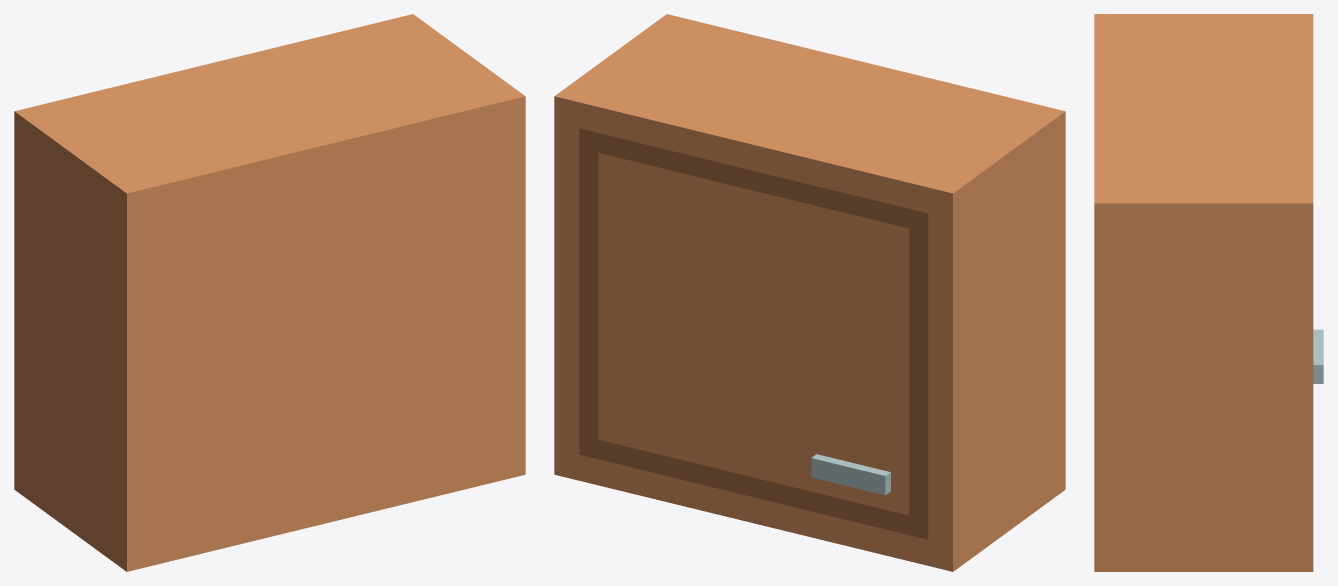
The model's file is Kitchen Cabinet Upper by Kenney - mM40AmuWwT.glb.
3 views of the same model, side by side, from view 1: azimuth 30°, elevation 25°; view 2: azimuth 150°, elevation 25°; view 3: azimuth 270°, elevation 25° (orthographic). The views are drawn at different scales.
Visible parts, largest first — view 1: kitchenCabinetUpper; view 2: kitchenCabinetUpper, door; view 3: kitchenCabinetUpper, door.
Part boxes in pixels (bbox=[...]): kitchenCabinetUpper: bbox=[14, 14, 525, 571]; kitchenCabinetUpper: bbox=[554, 14, 1065, 571]; door: bbox=[579, 128, 928, 539]; kitchenCabinetUpper: bbox=[1094, 14, 1313, 571]; door: bbox=[1313, 329, 1323, 383].
Size of the model in its own units: 0.43 by 0.39 by 0.22.
